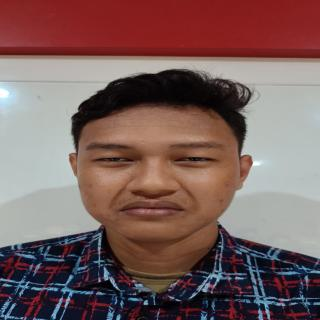Sedih: (66, 103, 253, 249)
